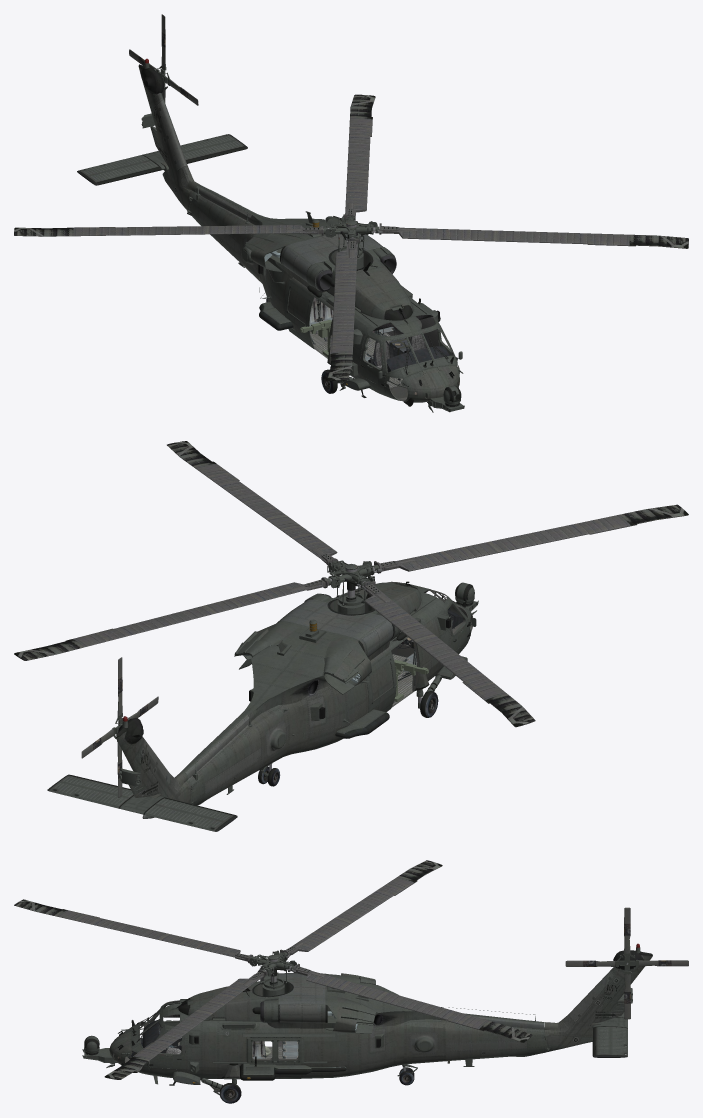
Rendered from mh-60r_seahawk_crewed.glb.
The picture shows the model from 3 angles, top to bottom: view 1: azimuth 30°, elevation 25°; view 2: azimuth 150°, elevation 25°; view 3: azimuth 270°, elevation 25°; orthographic projection. The views are drawn at different scales.
Parts seen in each view (by area): view 1: Main_Rotor, Object_9, Object_20, Object_12, Object_13, Object_18, Object_19, Object_17, Object_2, Object_5, Object_8, Object_10 (+4 smaller); view 2: Main_Rotor, Object_9, Object_20, Object_12, Object_13, Object_18, Object_8, Object_17, Object_11, Object_2, Tail_Rotor, Object_19 (+3 smaller); view 3: Main_Rotor, Object_9, Object_21, Object_19, Object_13, Object_20, Object_12, Object_18, Object_10, Tail_Rotor, Object_17, Object_16 (+7 smaller).
Part boxes in pixels (x1,y1,x2,y2): Main_Rotor: (14, 94, 688, 380); Object_9: (187, 185, 459, 391); Object_20: (188, 192, 425, 388); Object_12: (77, 69, 463, 412); Object_13: (138, 62, 459, 404); Object_18: (154, 65, 463, 406); Object_19: (187, 195, 459, 403); Object_17: (155, 66, 462, 386); Object_2: (310, 298, 459, 400); Object_5: (311, 301, 449, 372); Object_8: (192, 185, 457, 404); Object_10: (199, 185, 455, 397); Main_Rotor: (14, 441, 688, 727); Object_9: (180, 581, 470, 803); Object_20: (188, 561, 476, 805); Object_12: (47, 589, 477, 831); Object_13: (116, 592, 468, 818); Object_18: (112, 585, 472, 770); Object_8: (184, 582, 469, 803); Object_17: (113, 577, 476, 741); Object_11: (119, 578, 478, 794); Object_2: (387, 581, 472, 706); Tail_Rotor: (81, 657, 158, 797); Object_19: (191, 585, 472, 804); Main_Rotor: (14, 860, 532, 1079); Object_9: (127, 973, 547, 1084); Object_21: (110, 947, 445, 1079); Object_19: (109, 1008, 547, 1084); Object_13: (85, 947, 652, 1095); Object_20: (121, 958, 548, 1060); Object_12: (82, 951, 649, 1084); Object_18: (110, 953, 638, 1073); Object_10: (109, 972, 547, 1080); Tail_Rotor: (565, 907, 688, 1019); Object_17: (147, 953, 637, 1069); Object_16: (149, 954, 304, 1064).
Size of the model in its own units: 1690 by 647 by 2196.
Materials: 5 (3 with a texture image).
